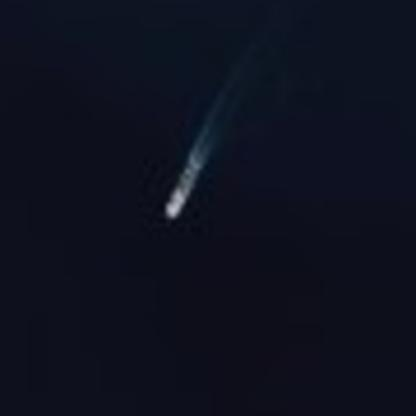ship: (160, 185, 190, 223)
